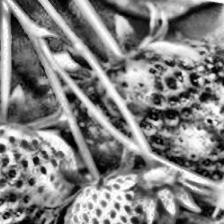Powdery Mildew Fruit: (90, 37, 224, 178)
